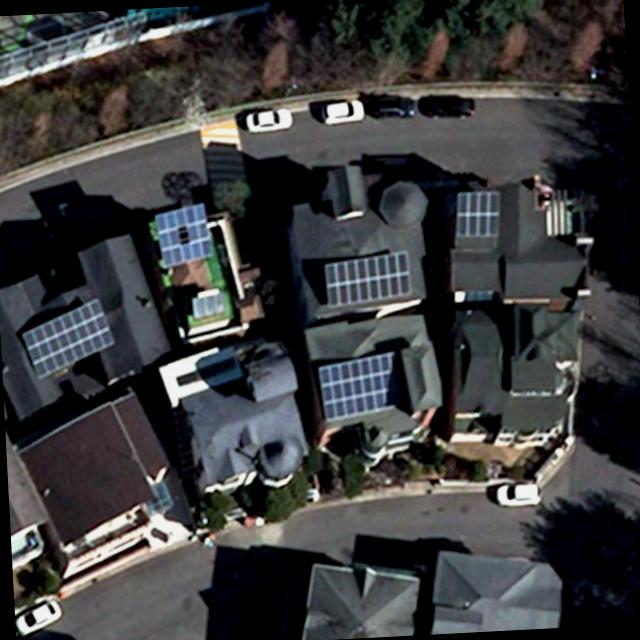solar: (16, 296, 120, 382), (312, 346, 410, 424), (320, 244, 414, 310), (152, 198, 220, 270), (452, 188, 503, 242)
